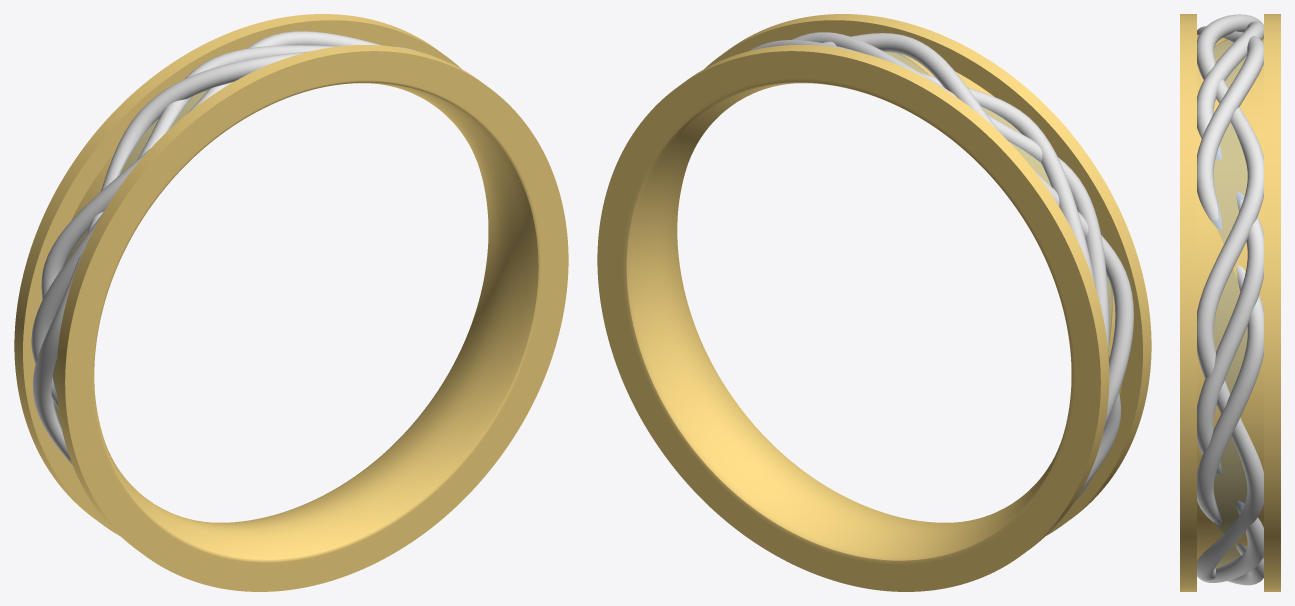
The model's file is RobertMV3new.glb.
3 renders of one model, left to right at view 1: azimuth 30°, elevation 25°; view 2: azimuth 150°, elevation 25°; view 3: azimuth 270°, elevation 25°, orthographic.
Parts seen in each view (by area): view 1: V3 Robert YG for 3d model, V3 Robert PT for 3d model, V3 Robert color it; view 2: V3 Robert YG for 3d model, V3 Robert PT for 3d model, V3 Robert color it; view 3: V3 Robert YG for 3d model, V3 Robert PT for 3d model, V3 Robert color it.
Part boxes in pixels (x1,y1,x2,y2): V3 Robert YG for 3d model: (14,14,568,591); V3 Robert PT for 3d model: (31,31,419,465); V3 Robert color it: (52,90,207,430); V3 Robert YG for 3d model: (597,14,1151,591); V3 Robert PT for 3d model: (749,32,1133,500); V3 Robert color it: (884,51,1112,430); V3 Robert YG for 3d model: (1180,14,1280,591); V3 Robert PT for 3d model: (1197,14,1263,585); V3 Robert color it: (1214,38,1247,569).
Bounding box in the file's own units: 24.69 × 24.65 × 4.3.
